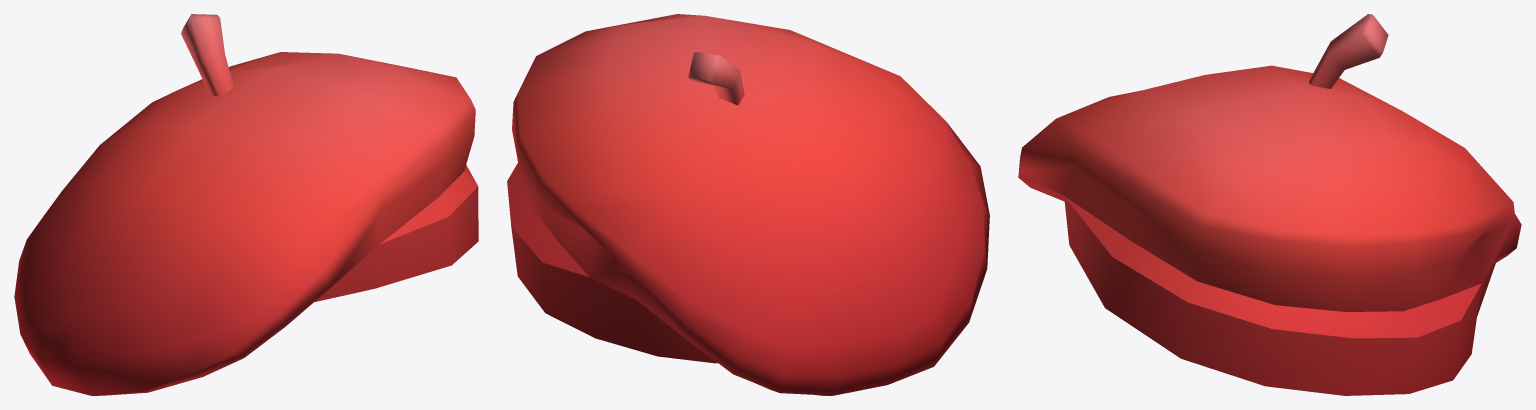
File: Hat_21.glb
3 renders of one model, left to right at view 1: azimuth 30°, elevation 25°; view 2: azimuth 150°, elevation 25°; view 3: azimuth 270°, elevation 25°, orthographic. The views are drawn at different scales.
Parts seen in each view (by area): view 1: Hat_21; view 2: Hat_21; view 3: Hat_21.
Part boxes in pixels (x1=…): Hat_21: x1=14, y1=14, x2=478, y2=395; Hat_21: x1=507, y1=14, x2=989, y2=395; Hat_21: x1=1018, y1=14, x2=1521, y2=395.
Size of the model in its own units: 0.7148 by 0.4882 by 0.6713.
Materials: 1 (1 with a texture image).
